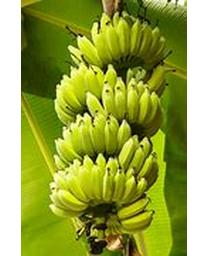banana: (48, 12, 166, 241)
